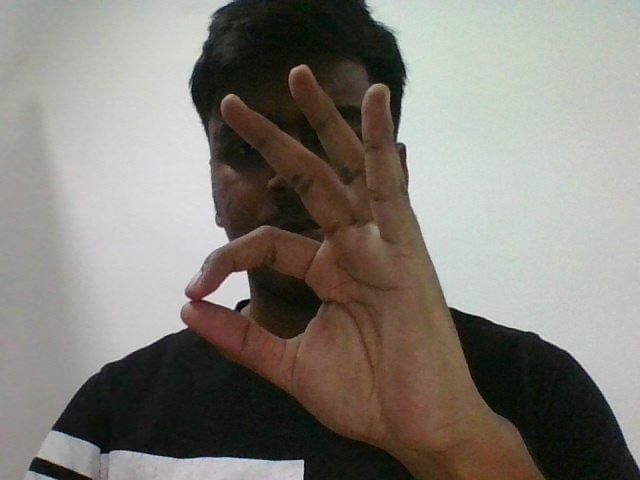ok: (185, 73, 415, 422)
